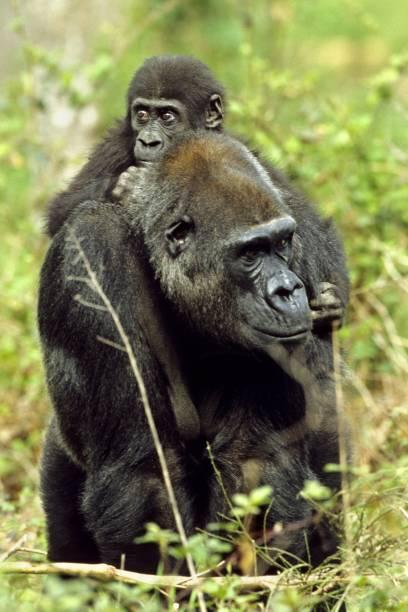gorille_Autres: (47, 50, 386, 568)
